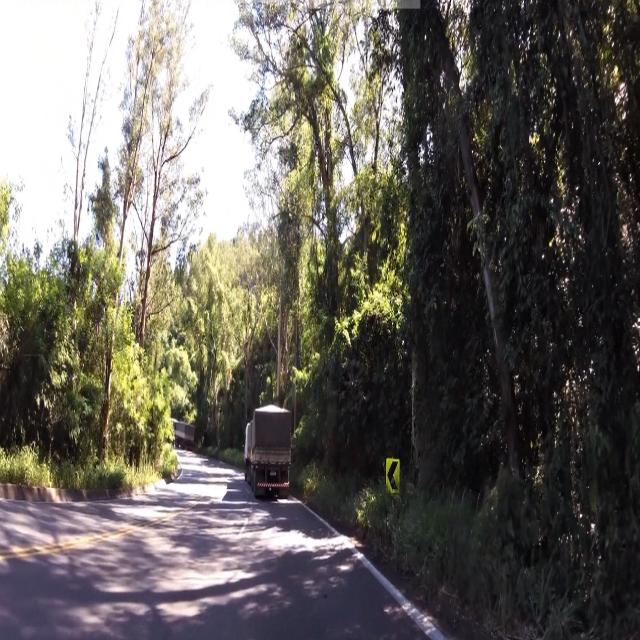Del: (385, 453, 399, 498)
